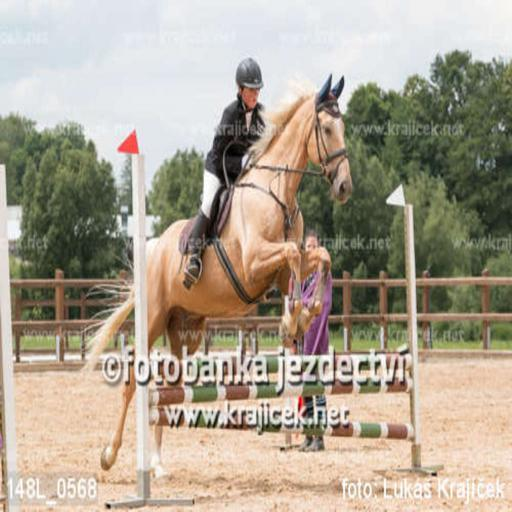Horse: (78, 70, 355, 480)
